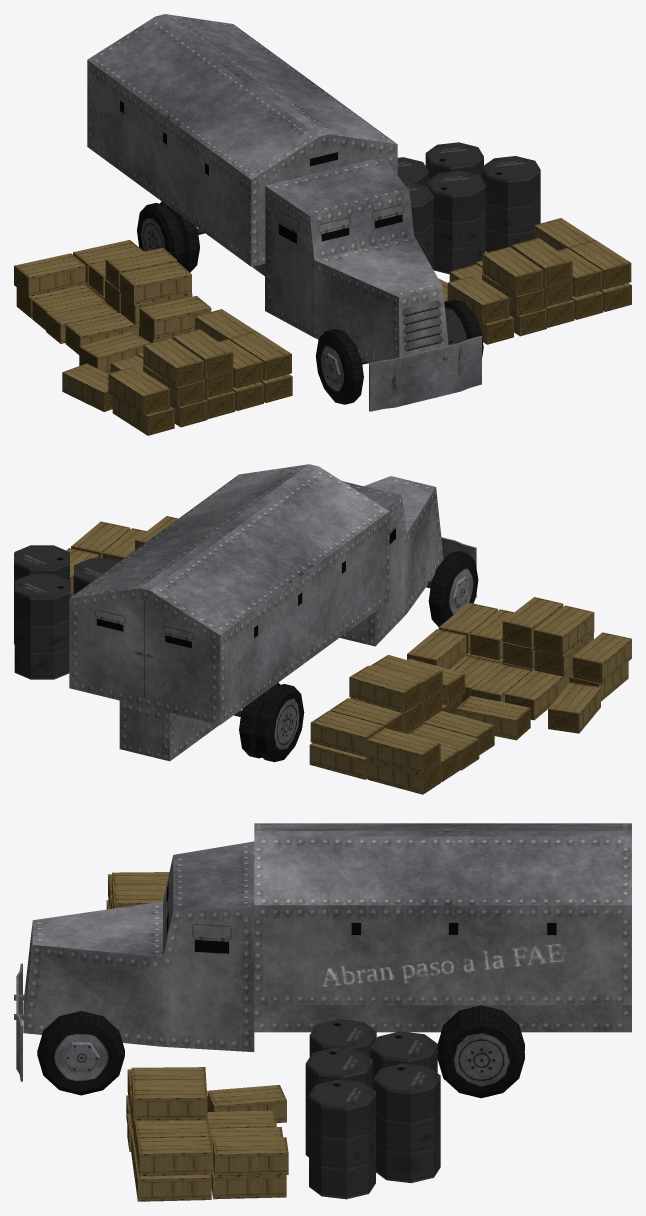
File: esrsuppliestruck.dae
3 views of the same model, one above another, from view 1: azimuth 30°, elevation 25°; view 2: azimuth 150°, elevation 25°; view 3: azimuth 270°, elevation 25° (orthographic). The views are drawn at different scales.
Visible parts, largest first — view 1: base, barrels, wheels1, wheels2; view 2: base, barrels, wheels2, wheels1; view 3: base, barrels, wheels2, wheels1.
Boxes of the visible parts, left/top/right/bottom form: base: left=87, top=14, right=481, bottom=411; barrels: left=14, top=142, right=631, bottom=435; wheels1: left=315, top=299, right=483, bottom=404; wheels2: left=137, top=201, right=204, bottom=272; base: left=69, top=464, right=476, bottom=761; barrels: left=14, top=516, right=631, bottom=794; wheels2: left=234, top=682, right=304, bottom=762; wheels1: left=426, top=551, right=478, bottom=626; base: left=14, top=823, right=631, bottom=1081; barrels: left=106, top=872, right=440, bottom=1201; wheels2: left=437, top=1005, right=524, bottom=1098; wheels1: left=37, top=1011, right=124, bottom=1095.
Bounding box in the file's own units: 60.82 × 54.8 × 22.08.
Materials: 1 (1 with a texture image).
